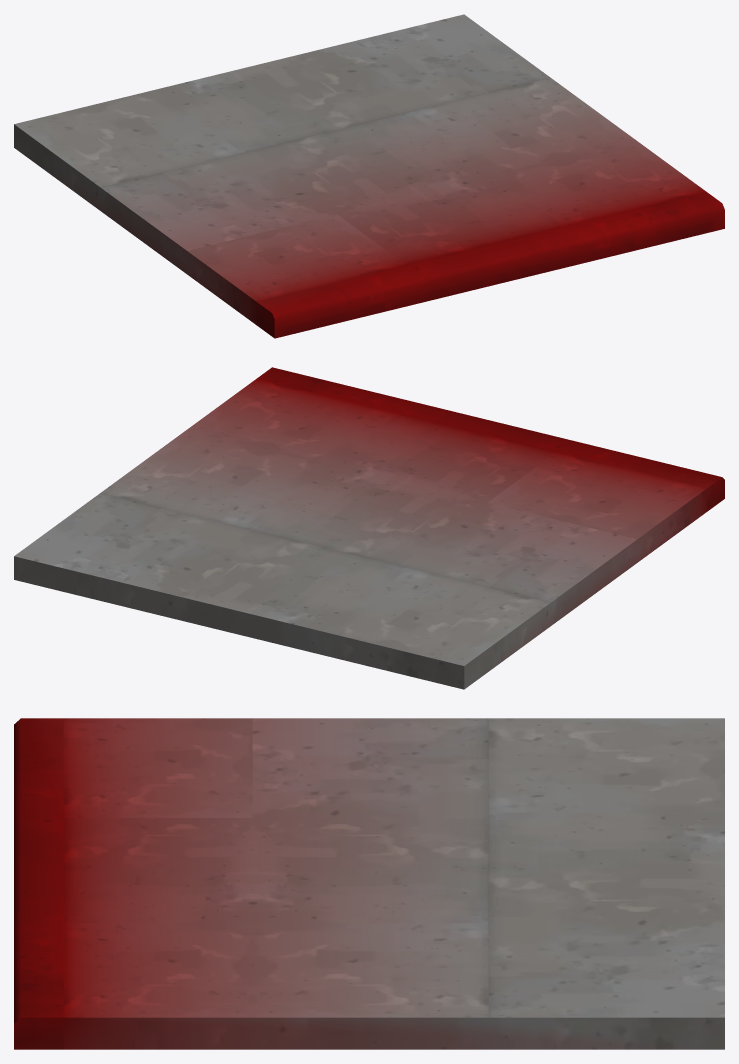
Rendered from Sidewalk_Straight_3m.glb.
3 renders of one model, top to bottom at view 1: azimuth 30°, elevation 25°; view 2: azimuth 150°, elevation 25°; view 3: azimuth 270°, elevation 25°, orthographic. The views are drawn at different scales.
Parts seen in each view (by area): view 1: Sidewalk_Straight_3m; view 2: Sidewalk_Straight_3m; view 3: Sidewalk_Straight_3m.
Part boxes in pixels (left/top/right/bottom): Sidewalk_Straight_3m: left=14, top=14, right=724, bottom=338; Sidewalk_Straight_3m: left=14, top=367, right=724, bottom=689; Sidewalk_Straight_3m: left=14, top=718, right=724, bottom=1049.
Size of the model in its own units: 3 by 0.1499 by 3.01.
1 material, 1 textured.
